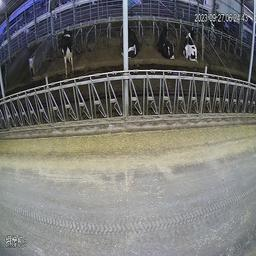cow: (60, 27, 76, 77), (158, 24, 176, 61), (184, 26, 201, 64), (128, 23, 141, 59)
